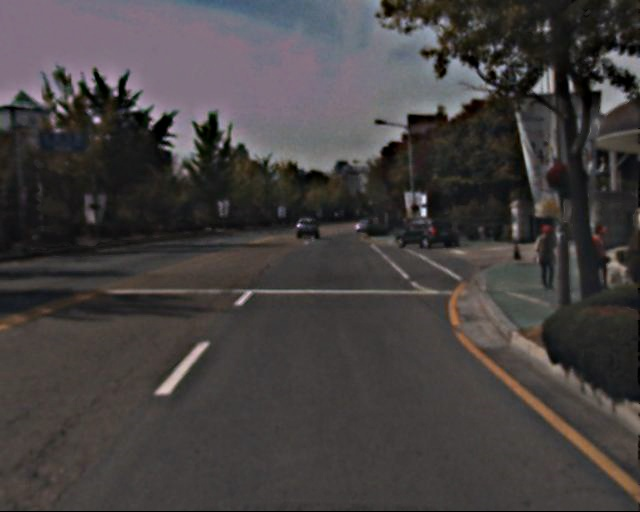person: (581, 219, 611, 293), (529, 222, 558, 292)
